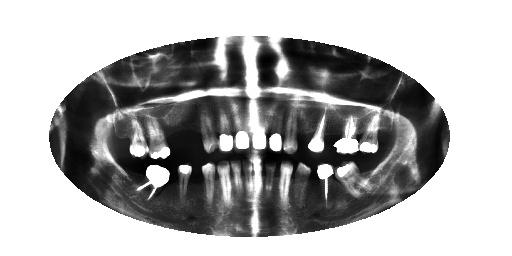u10healthy: (209, 94, 240, 156), (225, 157, 247, 227)
u11healthy: (196, 98, 223, 159), (214, 158, 237, 229)
u12healthy: (200, 156, 222, 224)
u12loss: (183, 102, 204, 157)
u13loss: (171, 103, 194, 158), (185, 160, 207, 211)
u14healthy: (173, 157, 196, 217)
u14loss: (161, 106, 180, 162)
u15healthy: (129, 153, 174, 210), (136, 102, 174, 164)
u16healthy: (124, 106, 154, 164)
u1healthy: (355, 108, 384, 162)
u2healthy: (332, 157, 375, 202), (330, 110, 363, 156)
u3healthy: (315, 159, 341, 212)
u3loss: (321, 100, 344, 155)
u4healthy: (303, 101, 337, 159), (295, 156, 325, 216)
u5healthy: (291, 157, 312, 221), (292, 104, 316, 156)
u6healthy: (276, 96, 303, 158), (273, 156, 296, 222)
u7decay: (256, 150, 280, 221)
u7healthy: (262, 96, 289, 157)
u8healthy: (247, 90, 272, 154), (249, 150, 267, 221)
u9healthy: (225, 95, 255, 155), (236, 150, 256, 221)
